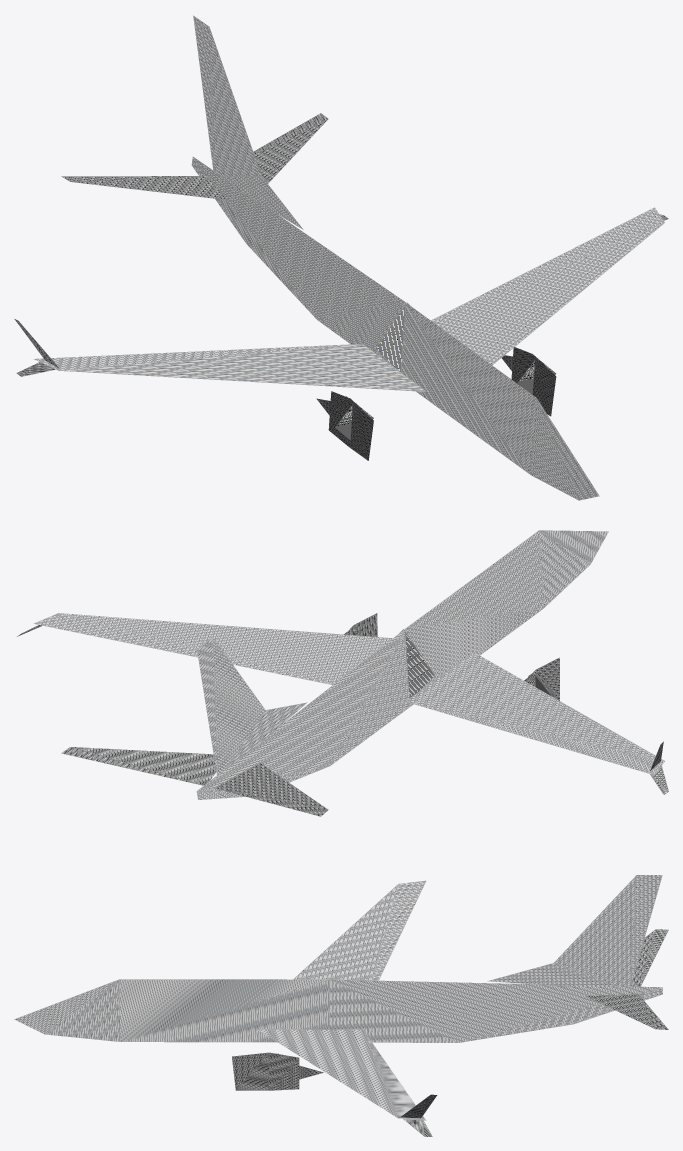
File: AIA_737-8_MAX_MSFS_LOD1.gltf
3 views of the same model, one above another, from view 1: azimuth 30°, elevation 25°; view 2: azimuth 150°, elevation 25°; view 3: azimuth 270°, elevation 25° (orthographic). The views are drawn at different scales.
Visible parts, largest first — view 1: node1, node2, node49_anim_custom_anim_REV_THRUST; view 2: node1, node2; view 3: node1, node2, node49_anim_custom_anim_REV_THRUST.
Boxes of the visible parts, x1,y1,x2,y2 form: node1: [34, 15, 664, 500]; node2: [14, 113, 668, 460]; node49_anim_custom_anim_REV_THRUST: [328, 347, 532, 445]; node1: [33, 530, 664, 799]; node2: [17, 613, 668, 816]; node1: [14, 875, 662, 1120]; node2: [232, 929, 668, 1136]; node49_anim_custom_anim_REV_THRUST: [268, 1052, 299, 1090].
Bounding box in the file's own units: 35.84 × 12 × 39.61.
